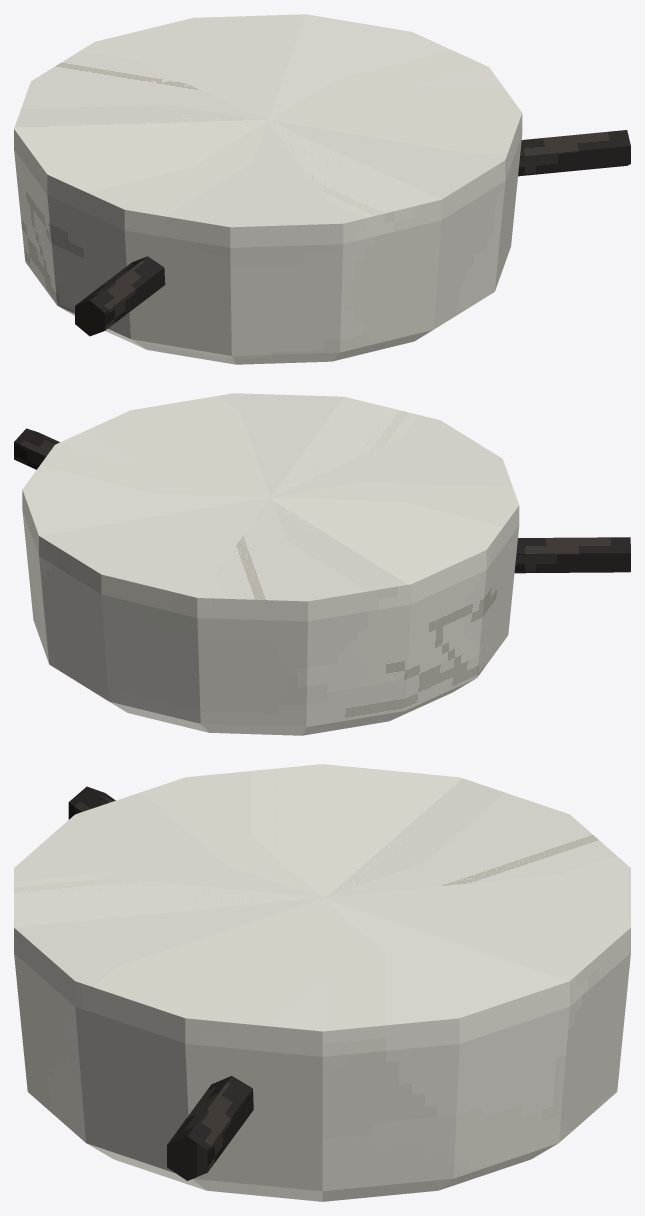
Rendered from gk_jbox.glb.
3 renders of one model, top to bottom at view 1: azimuth 30°, elevation 25°; view 2: azimuth 150°, elevation 25°; view 3: azimuth 270°, elevation 25°, orthographic. The views are drawn at different scales.
Visible parts, largest first — view 1: p; view 2: p; view 3: p.
Part boxes in pixels (x1,y1,x2,y2): p: (14, 14, 630, 364); p: (14, 393, 630, 735); p: (14, 764, 630, 1201).
Size of the model in its own units: 0.1203 by 0.032 by 0.0877.
Materials: 3 (3 with a texture image).
